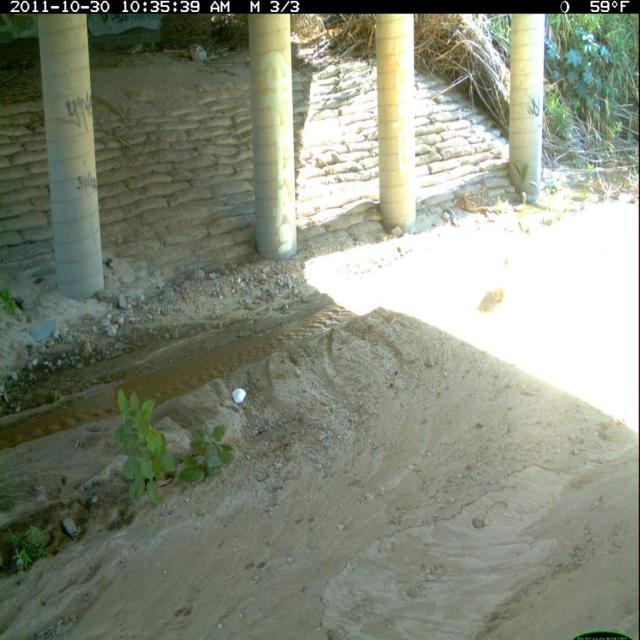coyote: (478, 216, 543, 322)
